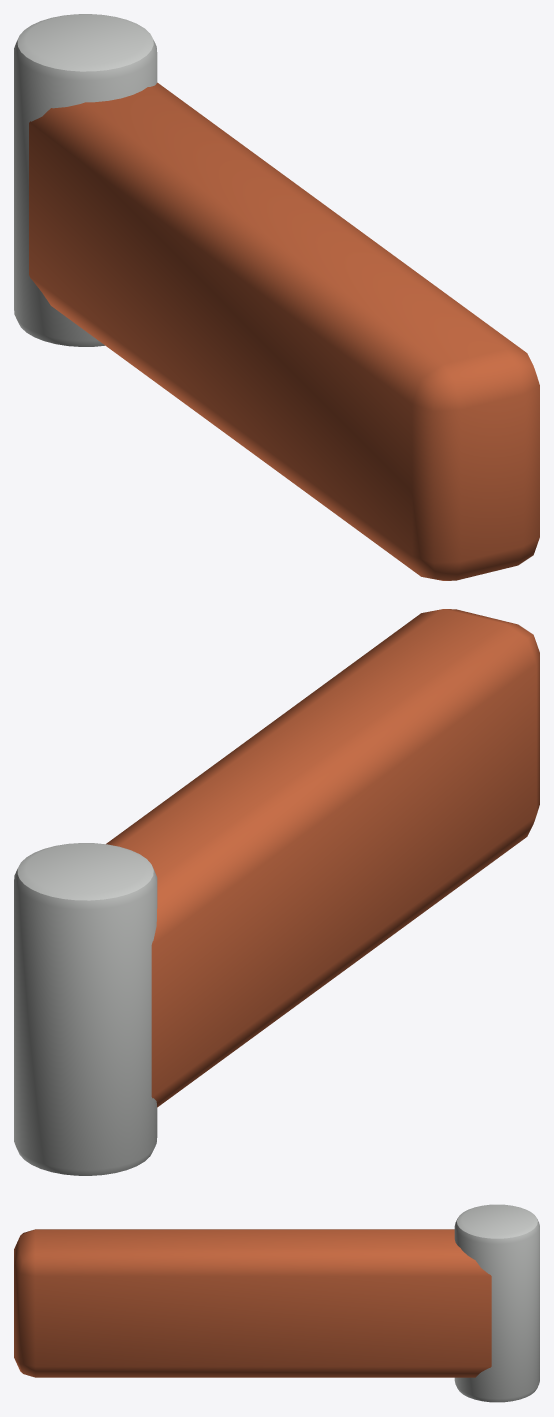
The model's file is welding_carriage_clutch_lever.glb.
3 renders of one model, top to bottom at view 1: azimuth 30°, elevation 25°; view 2: azimuth 150°, elevation 25°; view 3: azimuth 270°, elevation 25°, orthographic. The views are drawn at different scales.
Parts seen in each view (by area): view 1: welding_carriage_clutch_lever; view 2: welding_carriage_clutch_lever; view 3: welding_carriage_clutch_lever.
Boxes of the visible parts, bbox=[...] form: welding_carriage_clutch_lever: bbox=[14, 14, 539, 580]; welding_carriage_clutch_lever: bbox=[14, 609, 539, 1175]; welding_carriage_clutch_lever: bbox=[14, 1204, 539, 1402].
Bounding box in the file's own units: 0.012 × 0.026 × 0.074.
